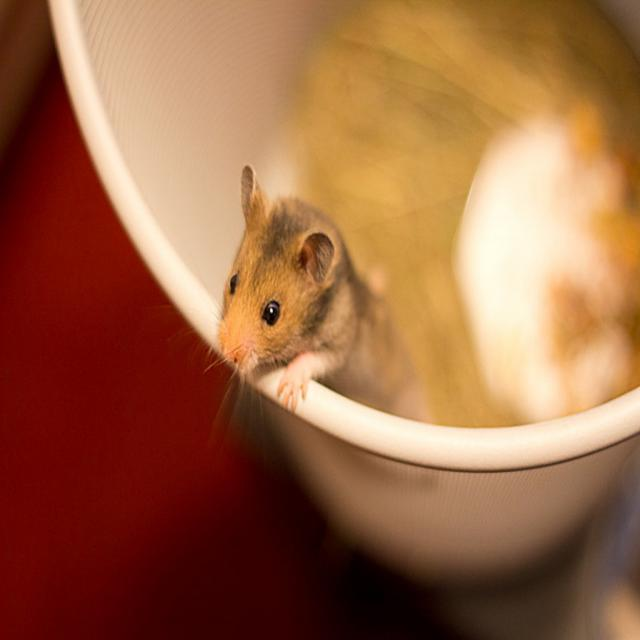rat: (211, 164, 424, 412)
